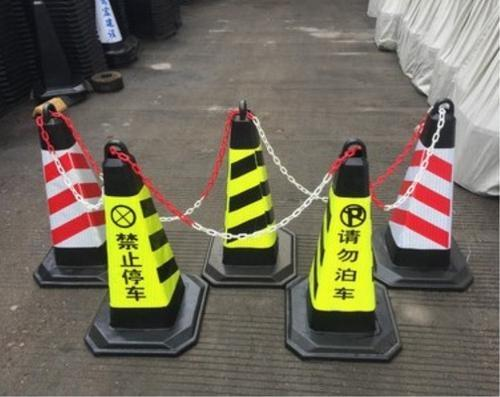cone_barrel: (293, 143, 389, 347), (89, 144, 189, 339), (376, 98, 463, 281), (23, 103, 109, 286), (206, 103, 284, 272)
